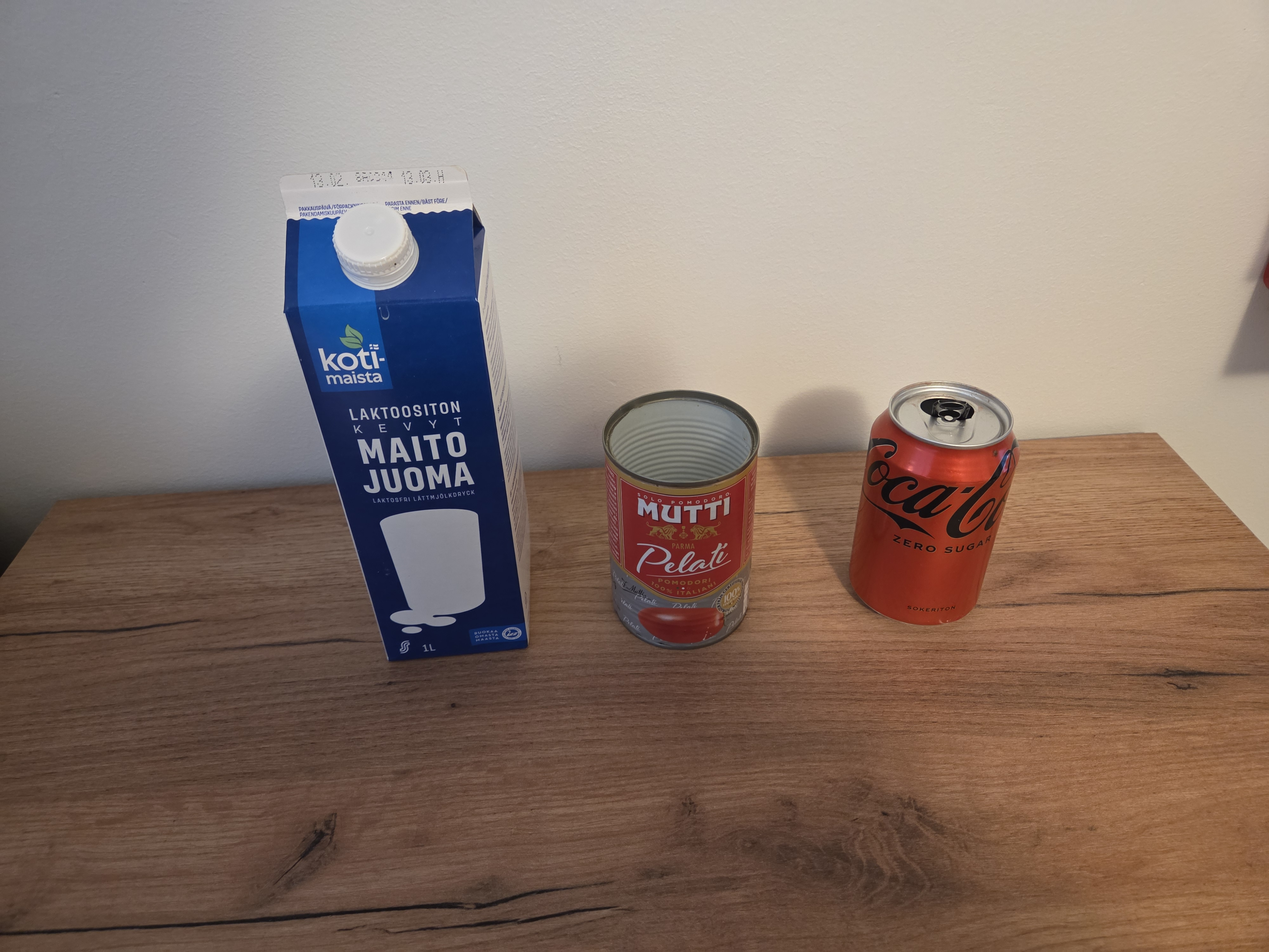Dryckeskartong: (282, 163, 532, 663)
Konservburk: (602, 389, 761, 650)
Pantburk: (847, 380, 1020, 626)
